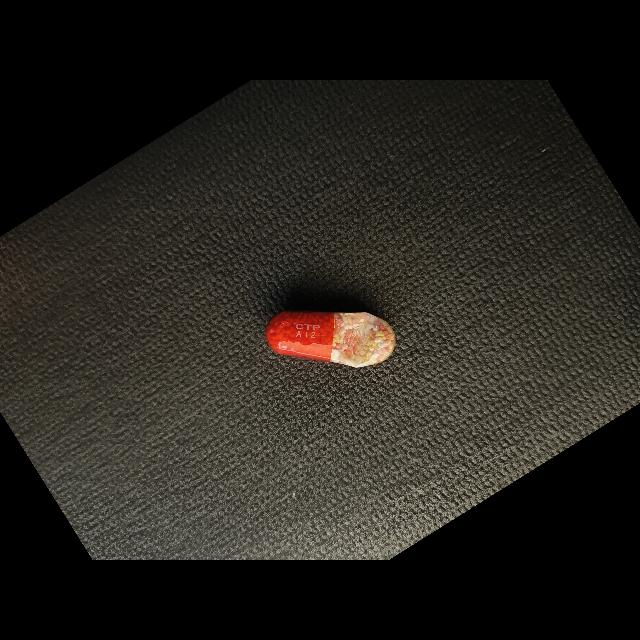Defective Capsule: (266, 312, 396, 368)
